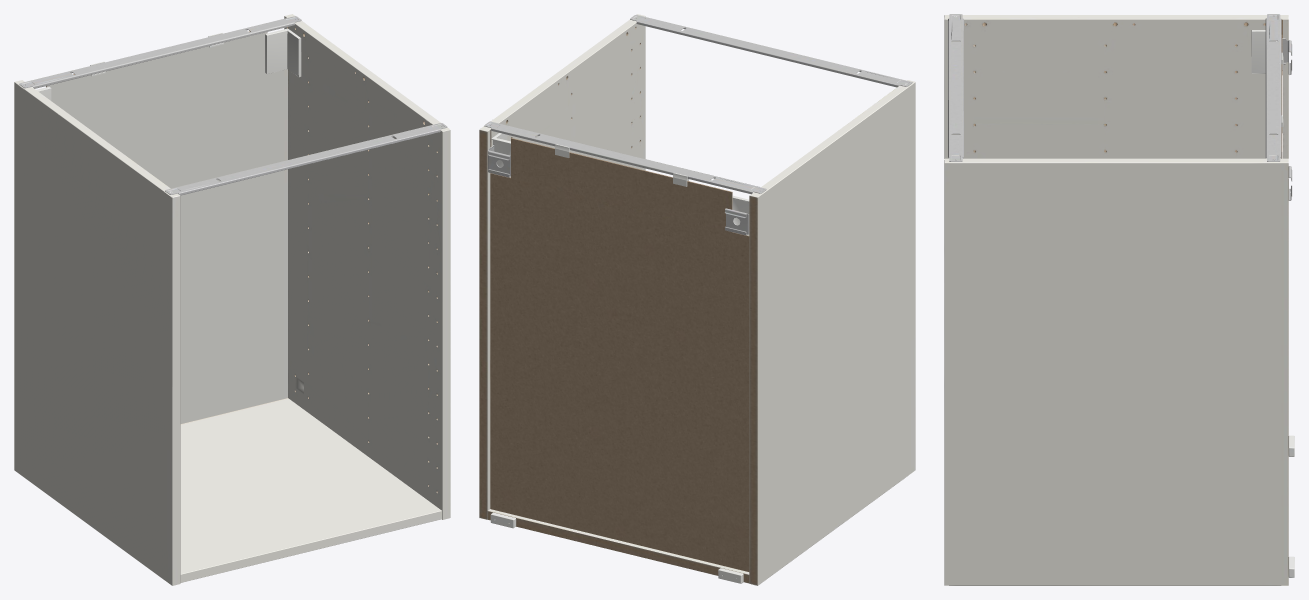
File: kitchen_base_cabinet_50205626.glb
3 renders of one model, left to right at view 1: azimuth 30°, elevation 25°; view 2: azimuth 150°, elevation 25°; view 3: azimuth 270°, elevation 25°, orthographic. The views are drawn at different scales.
Visible parts, largest first — view 1: model; view 2: model; view 3: model.
Part boxes in pixels (x1=…): model: x1=14, y1=14, x2=450, y2=585; model: x1=479, y1=14, x2=915, y2=585; model: x1=944, y1=14, x2=1294, y2=585.
Bounding box in the file's own units: 0.6 × 0.8021 × 0.6.
Materials: 1 (1 with a texture image).
